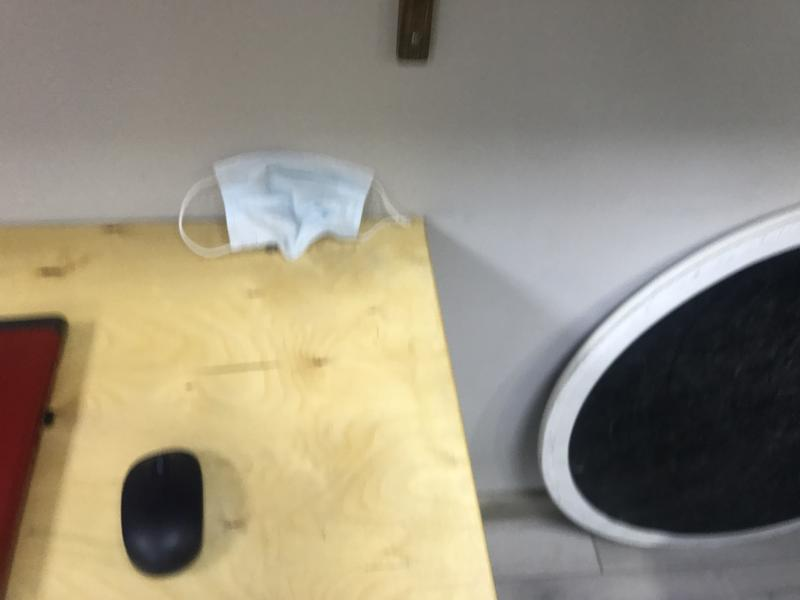medical_mask: (179, 155, 408, 260)
